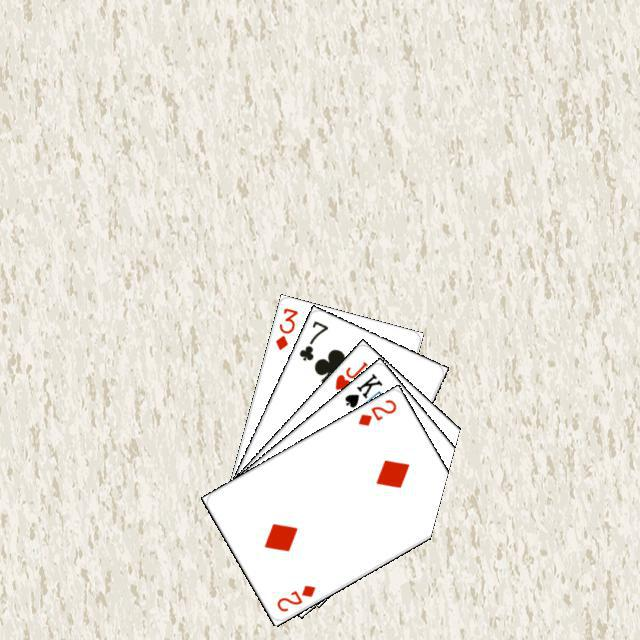2d: (353, 394, 398, 428), (272, 580, 317, 613)
3d: (270, 303, 300, 352)
7c: (294, 315, 330, 363)
Jh: (330, 356, 370, 392)
Ks: (340, 369, 384, 410)
